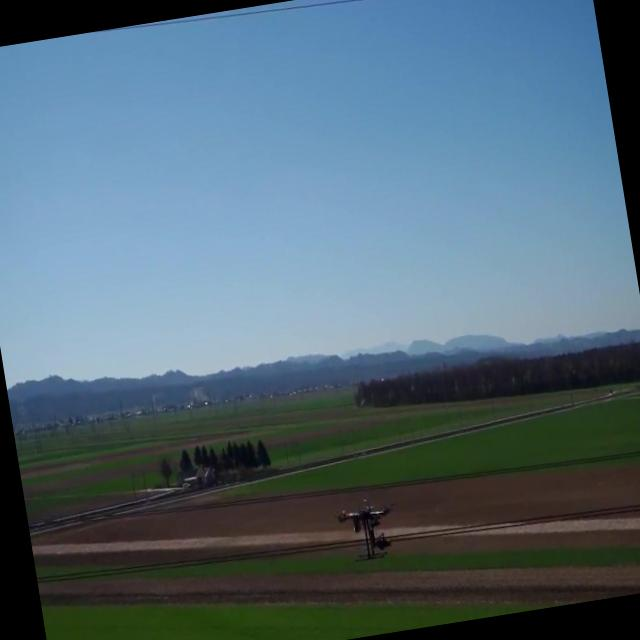drone: (332, 492, 403, 570)
